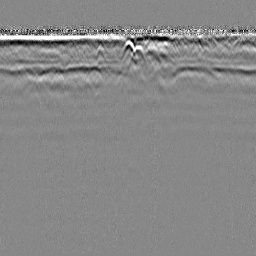cavity: (121, 37, 137, 58)
